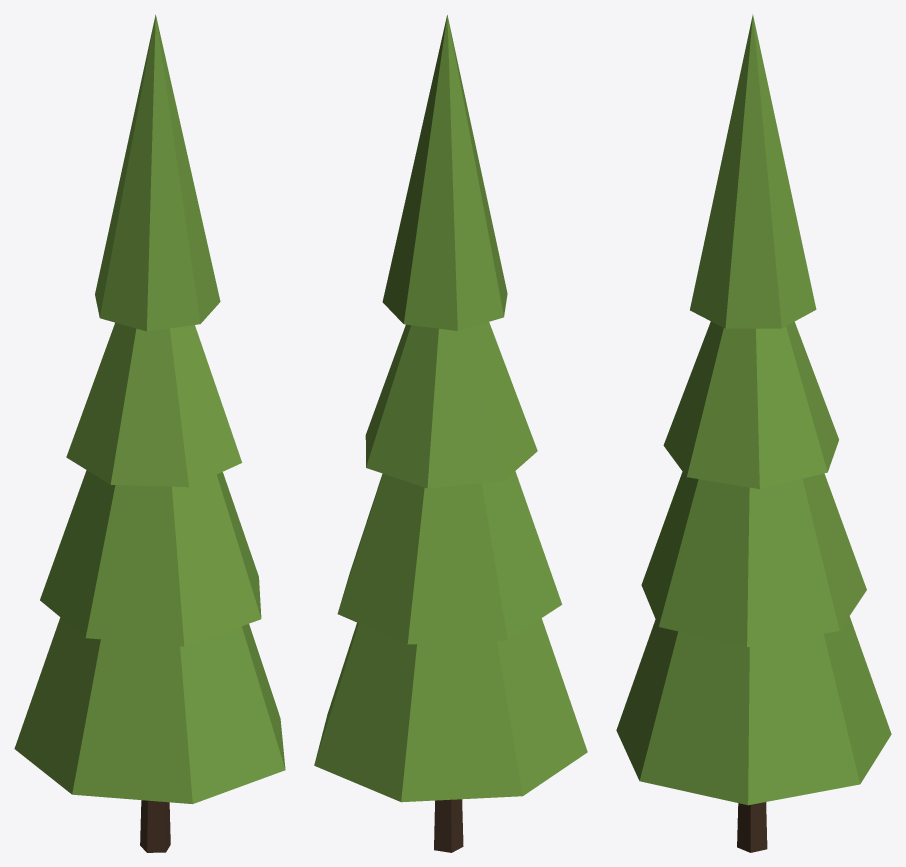
The model's file is meleze.glb.
The picture shows the model from 3 angles, left to right: view 1: azimuth 30°, elevation 25°; view 2: azimuth 150°, elevation 25°; view 3: azimuth 270°, elevation 25°; orthographic projection.
Visible parts, largest first — view 1: meleze; view 2: meleze; view 3: meleze.
Part boxes in pixels (x1,y1,x2,y2): meleze: (14,14,285,852); meleze: (314,15,587,852); meleze: (616,14,891,852).
Size of the model in its own units: 5.36 by 18.2 by 5.46.
1 material, 1 textured.
